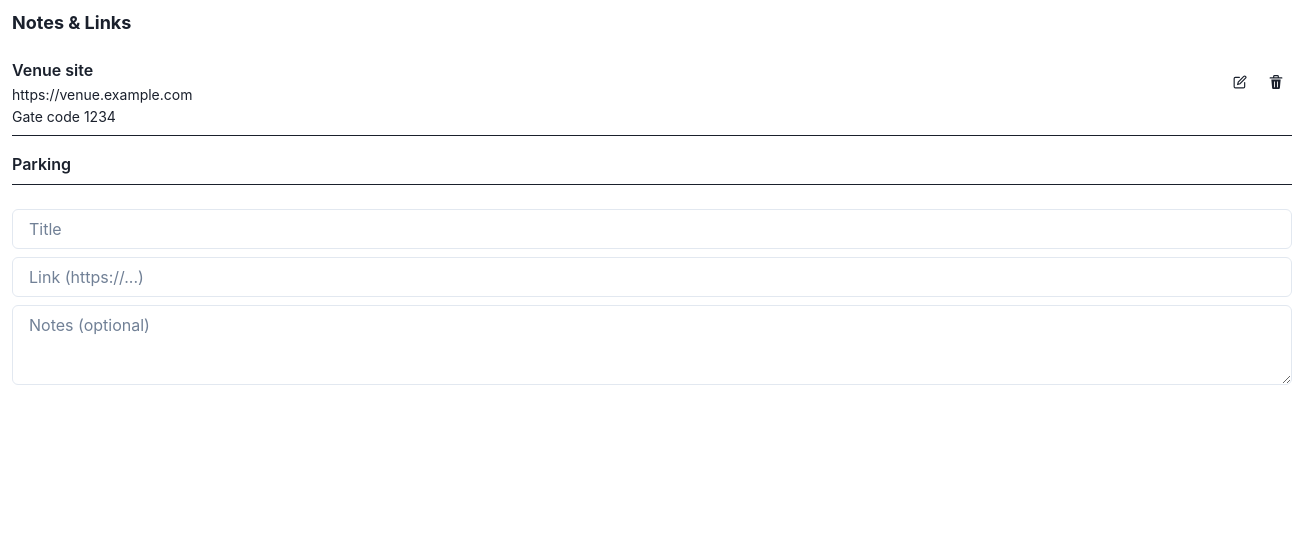
Test case: EventNotes › edits an entry via PATCH and updates the list
Expected: the text "Venue site" is shown, [12,60,93,80]
Click the button named "Edit note:".
click(1240, 82)  # box [1224,58,1256,106]
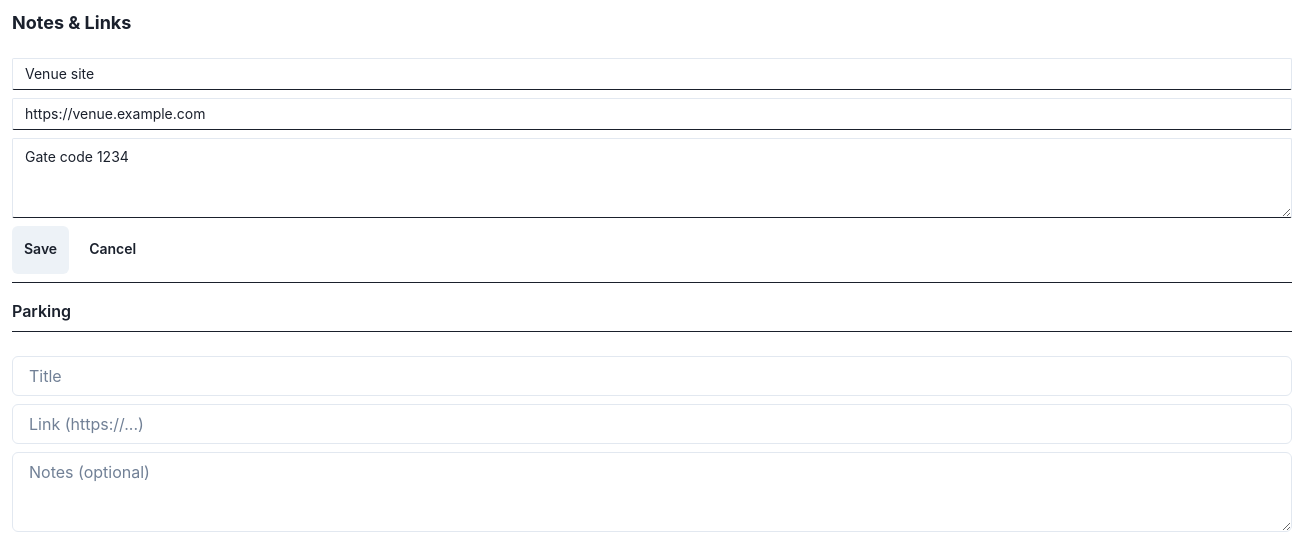
Replace the text in the field named "Edit note title" with "Renamed" at (652, 74), box [12,58,1292,90]
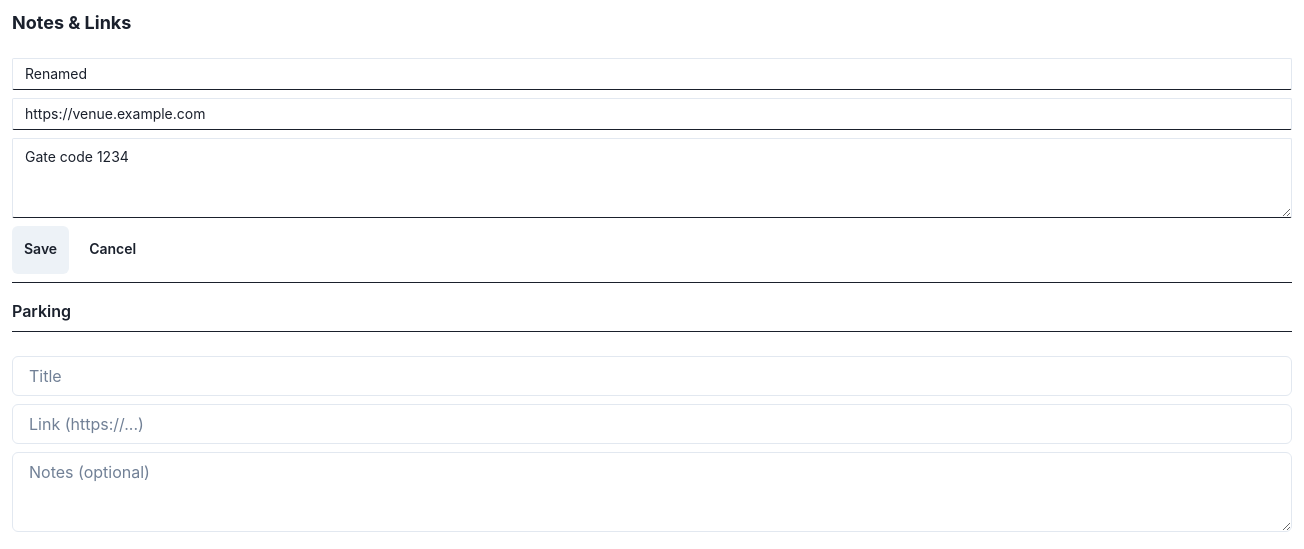
Click the button "Save".
click(41, 250)  # box [12,226,69,274]
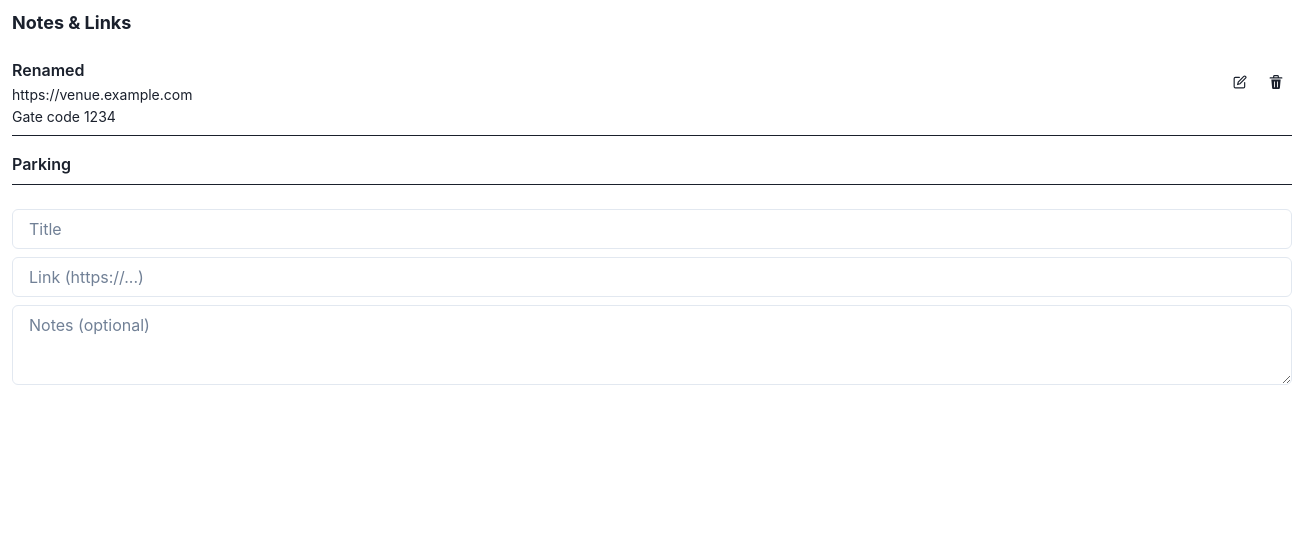
Expected: the text "Venue site" is not shown
Expected: the text "Renamed" is shown, [12,60,84,80]
